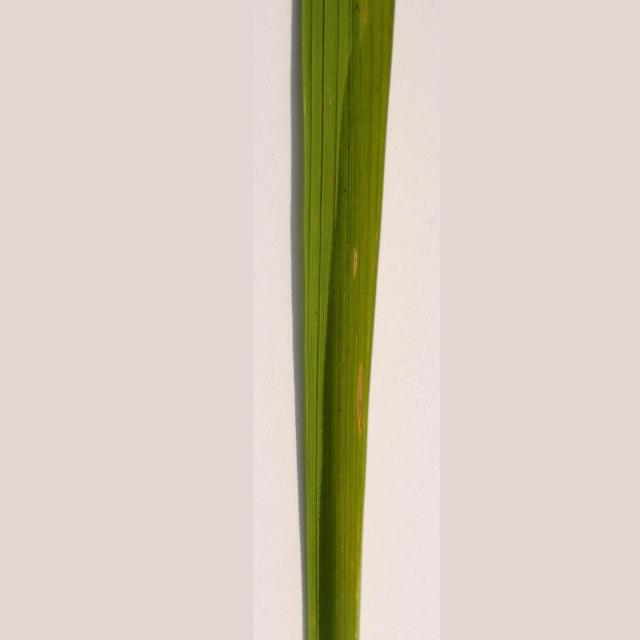Bacterial leaf blight: (354, 360, 372, 449), (348, 245, 362, 284)
